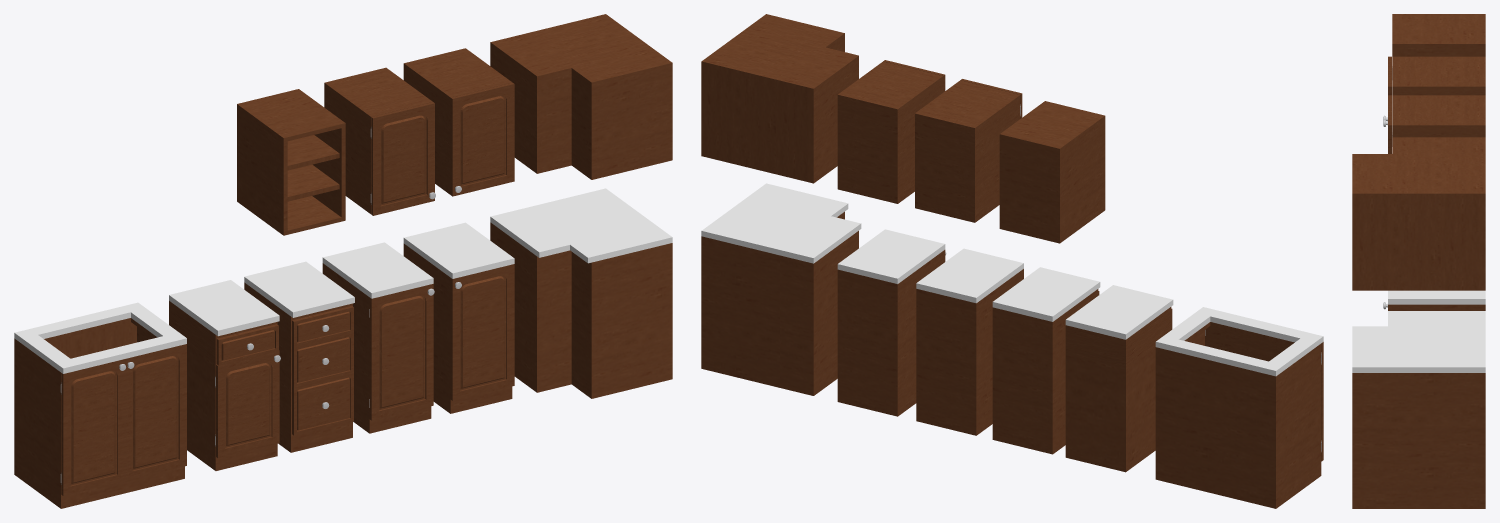
File: CabinetCset.fbx
3 views of the same model, side by side, from view 1: azimuth 30°, elevation 25°; view 2: azimuth 150°, elevation 25°; view 3: azimuth 270°, elevation 25° (orthographic). The views are drawn at different scales.
Parts seen in each view (by area): view 1: CabinetCCorner01, CabinetCCorner02, CabinetC_Sink, CabinetC07, CabinetC04, CabinetC02Door, CabinetC01Door, CabinetC_SinkDoor02, CabinetC_SinkDoor01, CabinetC01, CabinetC02, CabinetC03 (+9 smaller); view 2: CabinetC_Sink, CabinetCCorner01, CabinetCCorner02, CabinetC04, CabinetC01, CabinetC02, CabinetC03, CabinetC07, CabinetC06, CabinetC05, CabinetC_SinkDoor01, CabinetC_SinkDoor02; view 3: CabinetCCorner01, CabinetCCorner02, CabinetC05, CabinetC07, CabinetC06, CabinetC01, CabinetC05Door.
Boxes of the visible parts, <box> form: CabinetCCorner01: <box>490,188,672,398</box>; CabinetCCorner02: <box>490,14,672,179</box>; CabinetC_Sink: <box>14,302,186,508</box>; CabinetC07: <box>237,89,345,235</box>; CabinetC04: <box>169,280,279,470</box>; CabinetC02Door: <box>369,284,434,420</box>; CabinetC01Door: <box>450,264,514,400</box>; CabinetC_SinkDoor02: <box>60,359,125,495</box>; CabinetC_SinkDoor01: <box>125,344,186,480</box>; CabinetC01: <box>403,222,514,413</box>; CabinetC02: <box>322,242,433,433</box>; CabinetC03: <box>244,261,354,452</box>; CabinetC_Sink: <box>1155,307,1323,508</box>; CabinetCCorner01: <box>701,183,861,395</box>; CabinetCCorner02: <box>701,14,858,183</box>; CabinetC04: <box>1065,285,1173,472</box>; CabinetC01: <box>837,229,945,416</box>; CabinetC02: <box>916,248,1023,435</box>; CabinetC03: <box>992,267,1100,454</box>; CabinetC07: <box>999,101,1105,243</box>; CabinetC06: <box>915,80,1020,222</box>; CabinetC05: <box>837,61,943,203</box>; CabinetC_SinkDoor01: <box>1205,326,1261,359</box>; CabinetC_SinkDoor02: <box>1261,338,1323,461</box>; CabinetCCorner01: <box>1352,311,1485,508</box>; CabinetCCorner02: <box>1352,137,1485,290</box>; CabinetC05: <box>1392,95,1485,146</box>; CabinetC07: <box>1392,14,1485,56</box>; CabinetC06: <box>1392,56,1485,132</box>; CabinetC01: <box>1388,290,1485,310</box>; CabinetC05Door: <box>1388,95,1392,153</box>.
Size of the model in its own units: 400 by 204 by 78.05.
